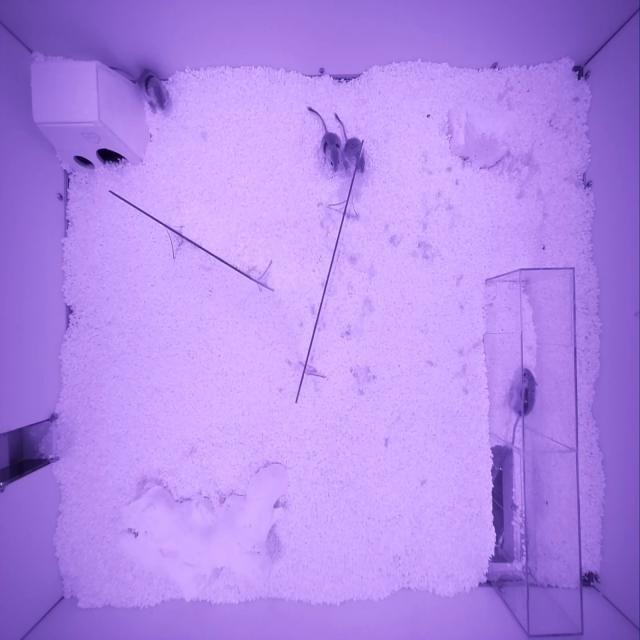pup_fluffy: (344, 137, 365, 173)
pup_h_stripe: (137, 69, 169, 110)
pup_spotted: (320, 133, 342, 171)
pup_v_stripe: (510, 367, 539, 418)
